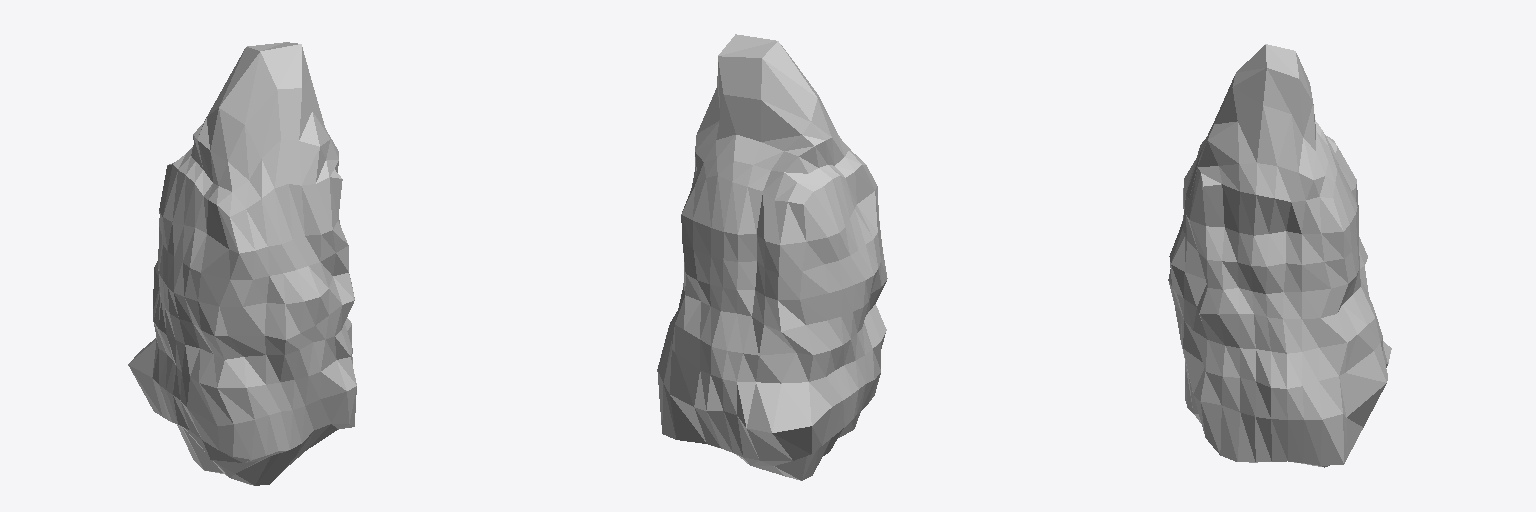
Rendered from TallRock.obj.
3 views of the same model, side by side, from view 1: azimuth 30°, elevation 25°; view 2: azimuth 150°, elevation 25°; view 3: azimuth 270°, elevation 25° (orthographic).
Visible parts, largest first — view 1: Cube; view 2: Cube; view 3: Cube.
Part boxes in pixels (left/top/right/bottom): Cube: left=128, top=42, right=356, bottom=485; Cube: left=657, top=34, right=887, bottom=480; Cube: left=1168, top=44, right=1391, bottom=467.
Size of the model in its own units: 3.55 by 7.58 by 3.65.